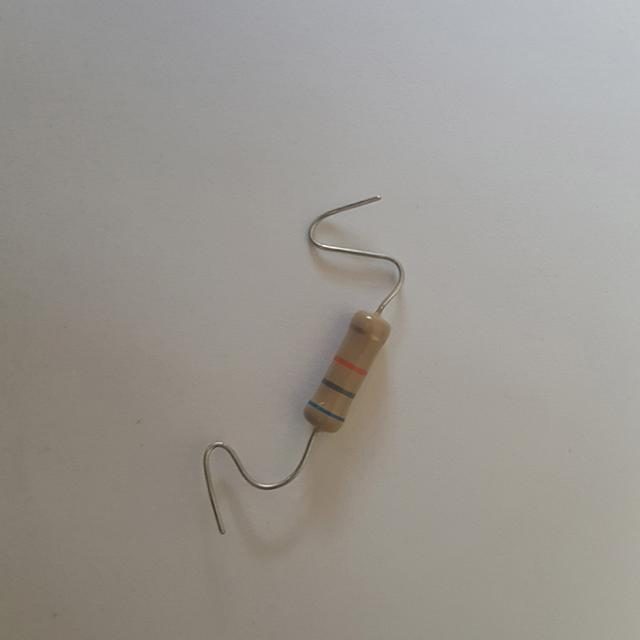blue: (307, 400, 345, 421)
gold: (349, 324, 381, 341)
grey: (321, 379, 354, 398)
orange: (335, 355, 367, 374)
resistor: (284, 294, 403, 447)
